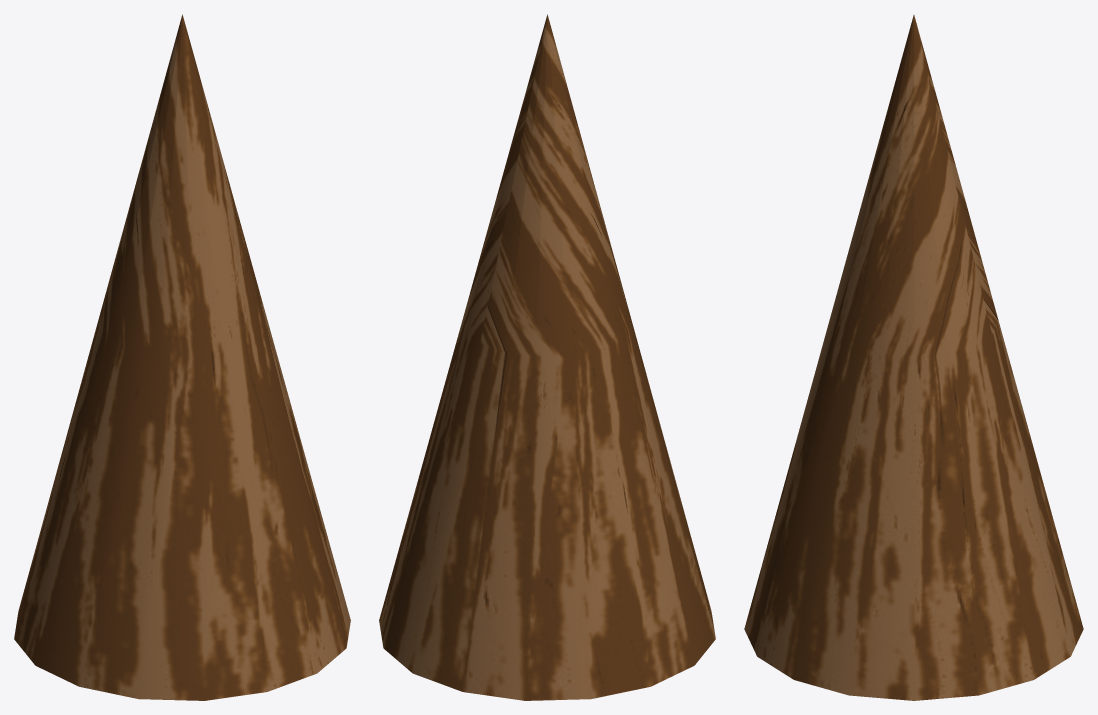
Rendered from Spike.FBX.
3 renders of one model, left to right at view 1: azimuth 30°, elevation 25°; view 2: azimuth 150°, elevation 25°; view 3: azimuth 270°, elevation 25°, orthographic.
Parts seen in each view (by area): view 1: Cone001; view 2: Cone001; view 3: Cone001.
Part boxes in pixels (x1=…): Cone001: x1=14, y1=14, x2=350, y2=700; Cone001: x1=379, y1=14, x2=715, y2=700; Cone001: x1=744, y1=15, x2=1083, y2=700.
Bounding box in the file's own units: 25 × 50 × 25.
Materials: 1 (1 with a texture image).
